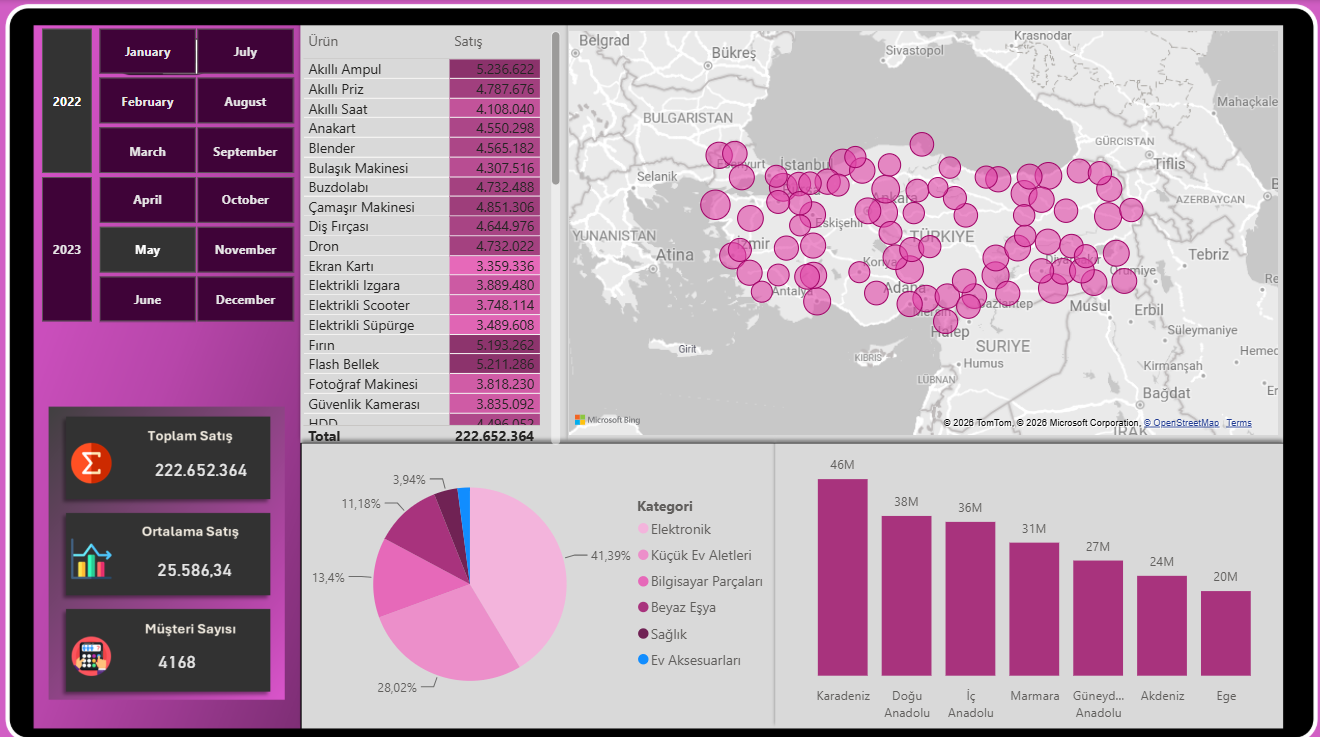

Layout of this report page (visuals, bound fields, positions):
{"tool":"powerbi","page":{"name":"Page 1","canvas":[1280,720],"ordinal":0},"visuals":[{"type":"slicer","fields":{"Values":["satis.Tarih.Variation.Date Hierarchy.Year"]},"box":[21.7,25.3,88.1,287.1],"z":0},{"type":"slicer","fields":{"Values":["satis.Tarih.Variation.Date Hierarchy.Month"]},"box":[77.2,25.3,226.8,287.1],"z":1000},{"type":"card","fields":{"Values":["Sum(satis.satis_tutari)"]},"box":[115.8,431.9,160.5,44.6],"z":2000},{"type":"card","fields":{"Values":["Avg(satis.satis_tutari)"]},"box":[109.8,528.4,160.5,44.6],"z":3000},{"type":"card","fields":{"Values":["Count(satis.satis_tutari)"]},"box":[92.9,617.7,160.5,44.6],"z":4000},{"type":"tableEx","fields":{"Values":["satis.urun","Sum(satis.satis_tutari)"]},"box":[288.3,25.3,259.4,409],"z":5000},{"type":"pieChart","fields":{"Category":["kategoriler.Kategori"],"Y":["Sum(satis.satis_tutari)"]},"box":[289.5,424.7,463.3,278.7],"z":6000},{"type":"columnChart","fields":{"Category":["bolgeler.bolge"],"Y":["Sum(satis.satis_tutari)"]},"box":[752.8,424.7,487.4,278.7],"z":7000},{"type":"map","fields":{"Category":["satis.il"],"Size":["Sum(satis.satis_tutari)"]},"box":[546.5,25.3,693.7,399.3],"z":8000}]}

Visuals, with their boxes in screenshot pixels (x1, y1, x2, y2), scaled from the page's 1280x720 canvas onto the 1320x737 screenshot:
slicer - satis.Tarih.Variation.Date Hierarchy.Year: bbox=(22, 26, 113, 320)
slicer - satis.Tarih.Variation.Date Hierarchy.Month: bbox=(80, 26, 314, 320)
card - Sum(satis.satis_tutari): bbox=(119, 442, 285, 488)
card - Avg(satis.satis_tutari): bbox=(113, 541, 279, 587)
card - Count(satis.satis_tutari): bbox=(96, 632, 261, 678)
tableEx - satis.urun x Sum(satis.satis_tutari): bbox=(297, 26, 565, 445)
pieChart - kategoriler.Kategori x Sum(satis.satis_tutari): bbox=(299, 435, 776, 720)
columnChart - bolgeler.bolge x Sum(satis.satis_tutari): bbox=(776, 435, 1279, 720)
map - satis.il x Sum(satis.satis_tutari): bbox=(564, 26, 1279, 435)
